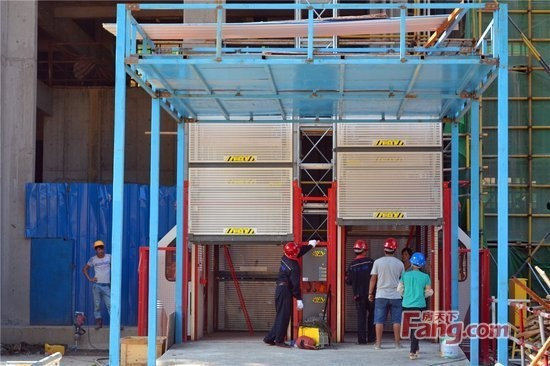blue: (410, 252, 425, 269)
none: (400, 247, 411, 261)
red: (282, 240, 300, 260), (381, 235, 398, 255), (351, 238, 368, 257)
yellow: (92, 239, 105, 254)
